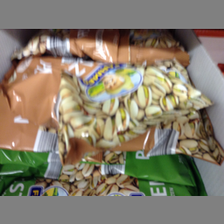nuts: (1, 55, 219, 164)
